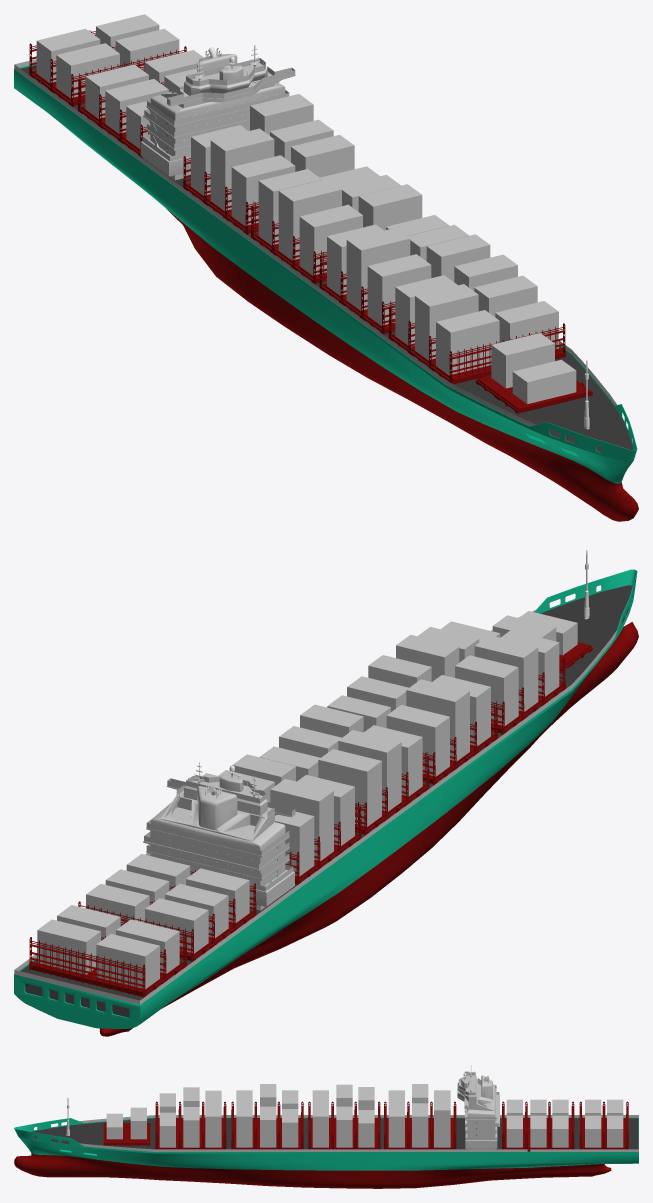
File: SM_Bateau.fbx
The picture shows the model from 3 angles, top to bottom: view 1: azimuth 30°, elevation 25°; view 2: azimuth 150°, elevation 25°; view 3: azimuth 270°, elevation 25°; orthographic projection. The views are drawn at different scales.
Parts seen in each view (by area): view 1: ShipBody, Fences, Supertower, Floor, TopBodyShip, Box027, Box028, Box050, Box042, Box053, Box038, Box048 (+32 smaller); view 2: ShipBody, Supertower, Fences, Floor, TopBodyShip, Box037, Box036, LashingTowers00, Box032, Box047, Box053, Box042 (+35 smaller); view 3: ShipBody, Fences, Floor, TopBodyShip, Supertower, Box030, Box031, Box029, Box035, Box036, Box027, Box040 (+59 smaller).
Part boxes in pixels (x1,y1,x2,y2): ShipBody: (14,72,638,521); Fences: (14,58,616,426); Supertower: (140,54,295,180); Floor: (20,65,632,452); TopBodyShip: (14,64,637,462); Box027: (491,333,554,388); Box028: (512,359,576,403); Box050: (358,184,422,227); Box042: (210,128,274,178); Box053: (346,228,410,277); Box038: (56,43,119,98); Box048: (278,179,341,228); ShipBody: (14,622,638,1036); Supertower: (143,775,295,910); Fences: (14,610,616,1004); Floor: (21,585,632,1000); TopBodyShip: (14,569,637,1007); Box037: (96,934,159,989); Box036: (37,919,100,974); LashingTowers00: (29,937,145,997); Box032: (145,898,208,953); Box047: (318,749,381,793); Box053: (406,679,469,729); Box042: (270,779,333,828); ShipBody: (14,1137,638,1188); Fences: (79,1071,638,1151); Floor: (31,1118,638,1151); TopBodyShip: (14,1117,638,1153); Supertower: (457,1075,499,1149); Box030: (530,1115,546,1147); Box031: (552,1115,568,1147); Box029: (506,1115,522,1147); Box035: (585,1115,601,1147); Box036: (607,1115,623,1147); Box027: (130,1107,146,1139); Box040: (434,1097,450,1129).
Bounding box in the file's own units: 4730 × 6700 × 36230.
